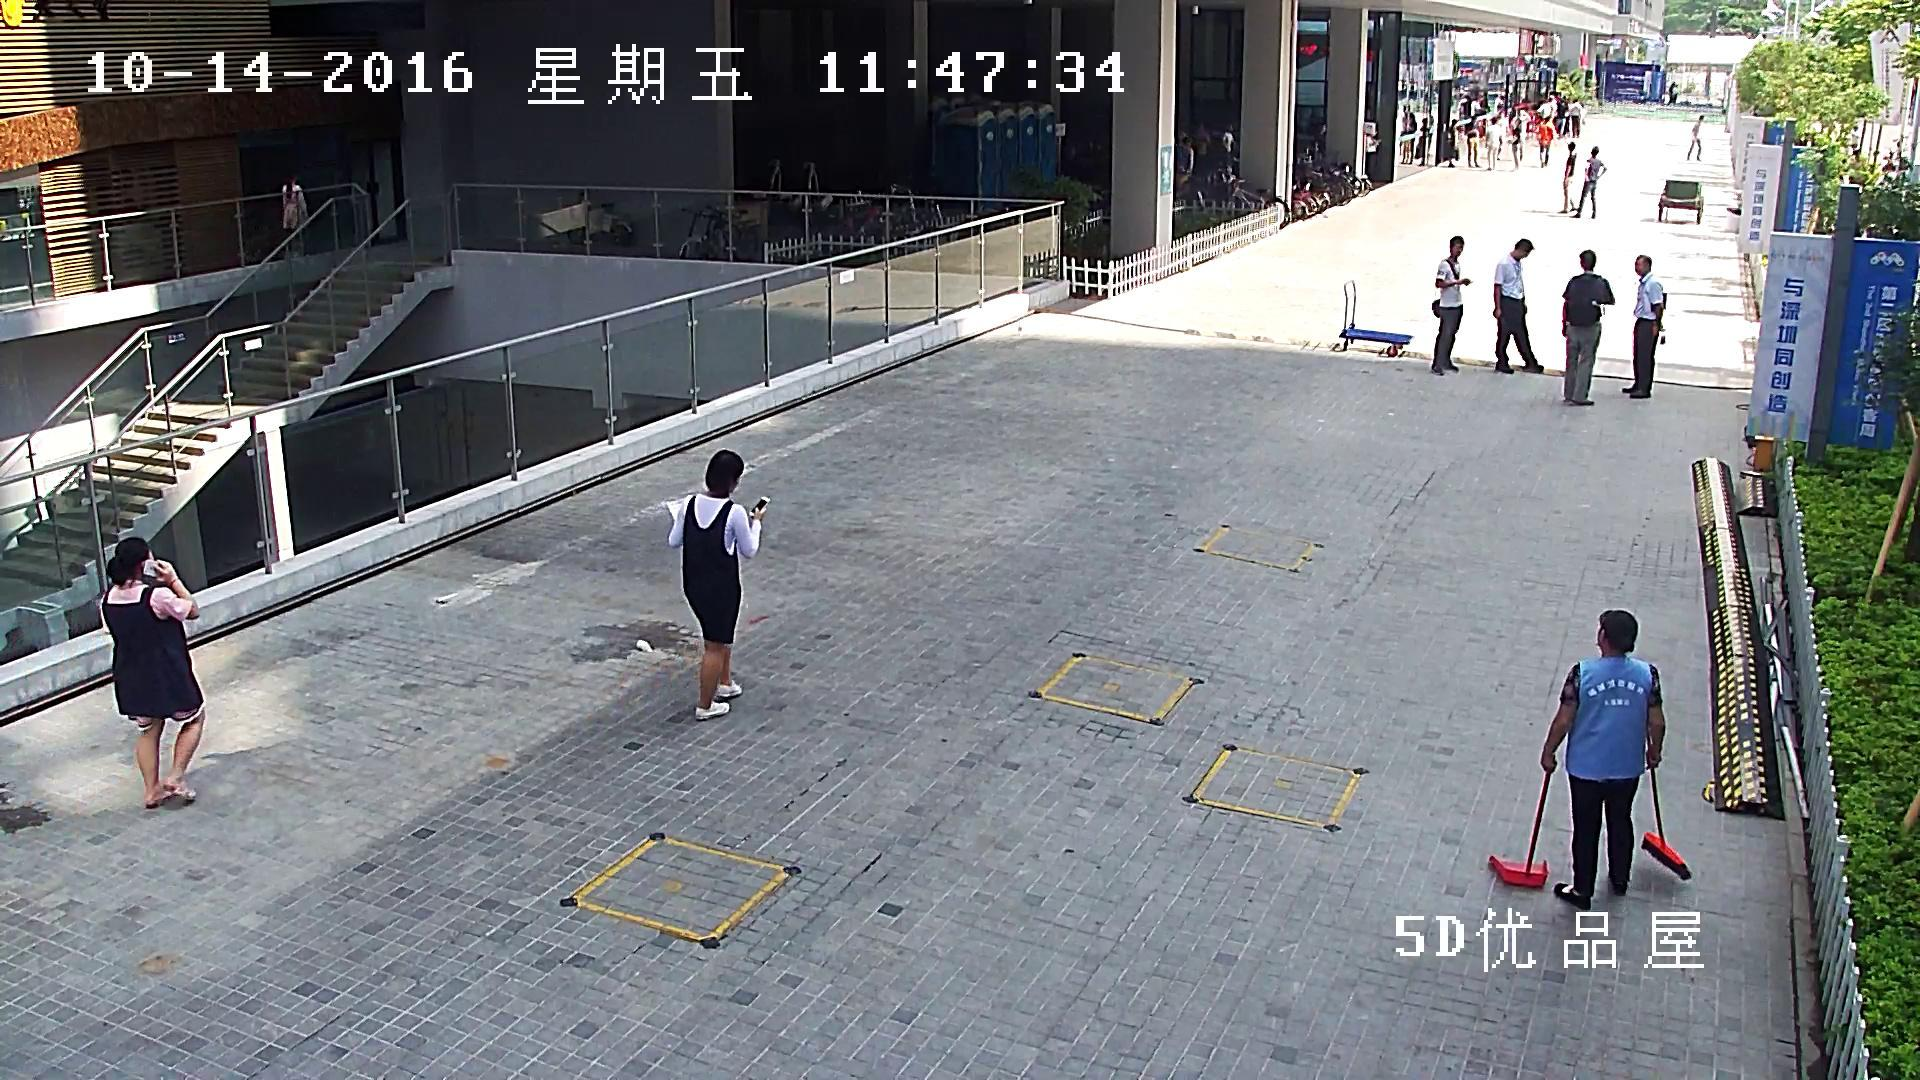person: (1491, 606, 1691, 910), (1541, 608, 1665, 910), (101, 536, 208, 809), (666, 447, 771, 718), (1561, 250, 1615, 404), (1492, 238, 1543, 375), (1622, 256, 1664, 399), (1430, 236, 1471, 377), (1572, 145, 1607, 218), (282, 173, 308, 253), (1560, 143, 1577, 213), (1484, 116, 1502, 170), (1687, 114, 1705, 160), (1537, 116, 1553, 167), (1466, 117, 1480, 167), (1405, 112, 1416, 164), (1511, 119, 1522, 170), (1447, 119, 1457, 168), (1570, 99, 1583, 138), (1555, 102, 1567, 138), (1668, 83, 1678, 104)
